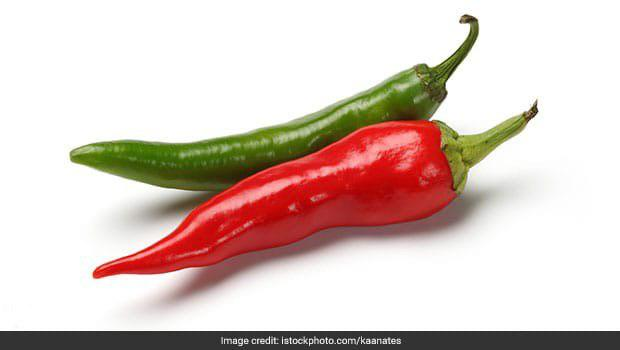lada hijau: (67, 39, 467, 191)
lada merah: (91, 116, 467, 293)
